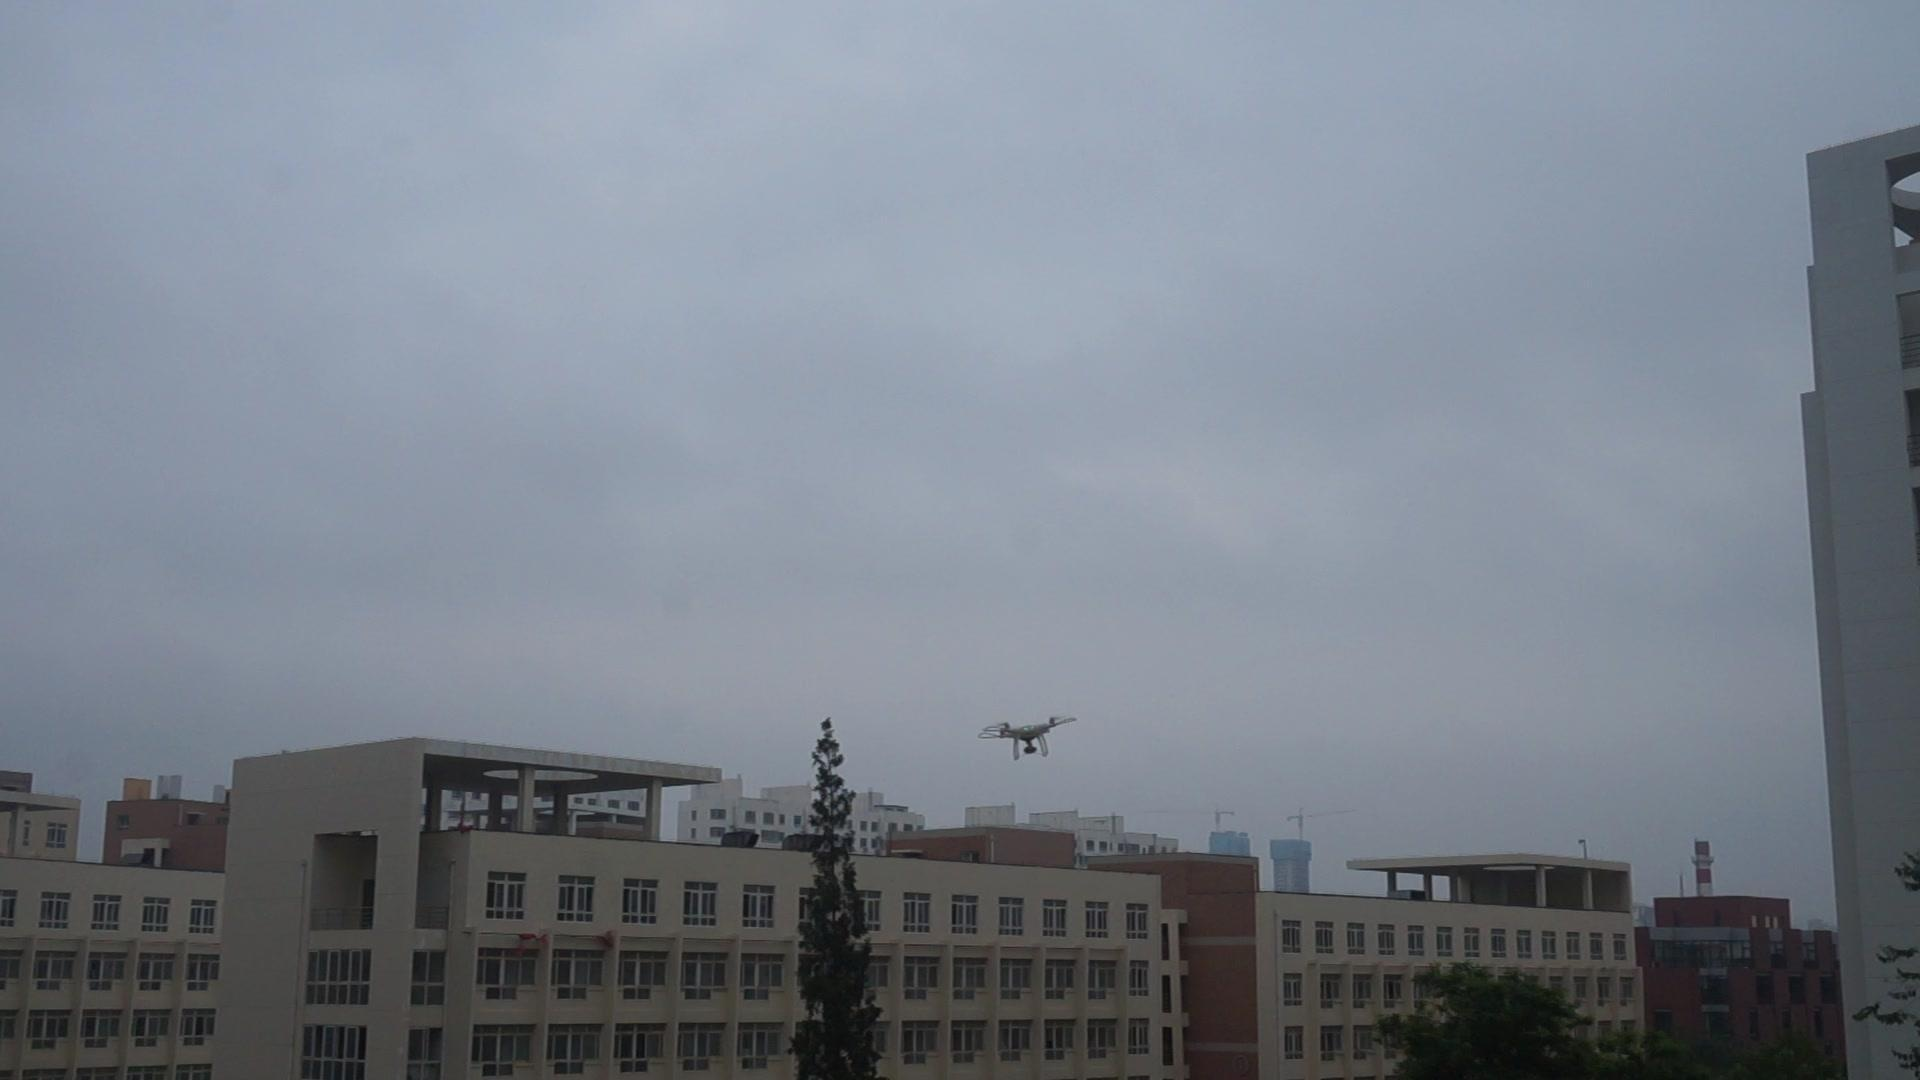UAV: (978, 717, 1077, 761)
